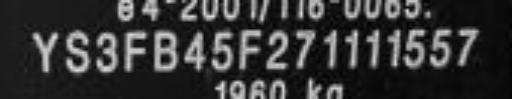letter: (148, 24, 182, 77), (121, 24, 151, 77), (60, 27, 90, 78), (209, 27, 239, 74), (236, 27, 266, 74), (30, 30, 60, 77), (94, 27, 120, 78), (452, 24, 484, 65), (290, 27, 320, 68), (336, 30, 366, 71), (260, 30, 290, 71), (182, 30, 208, 75), (402, 27, 430, 68), (426, 27, 454, 68), (318, 27, 342, 74), (381, 27, 405, 68), (366, 29, 382, 68)
